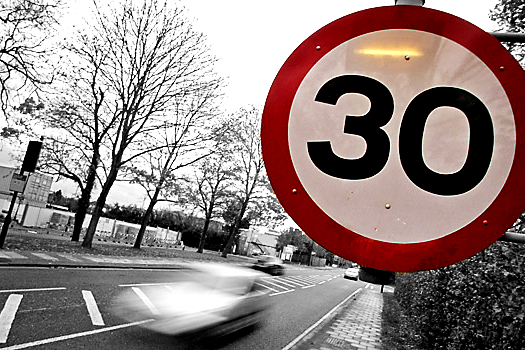Speed_limit_30km: (261, 5, 525, 273)
